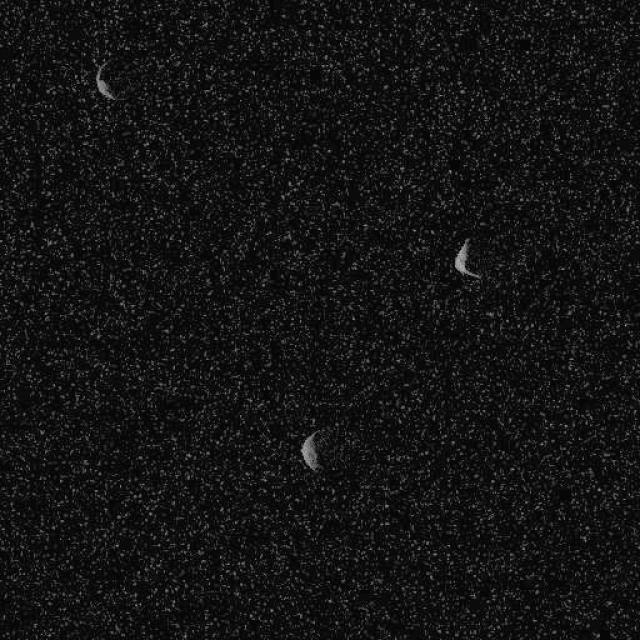D2: (298, 426, 332, 474), (452, 236, 482, 280), (94, 59, 116, 101)
